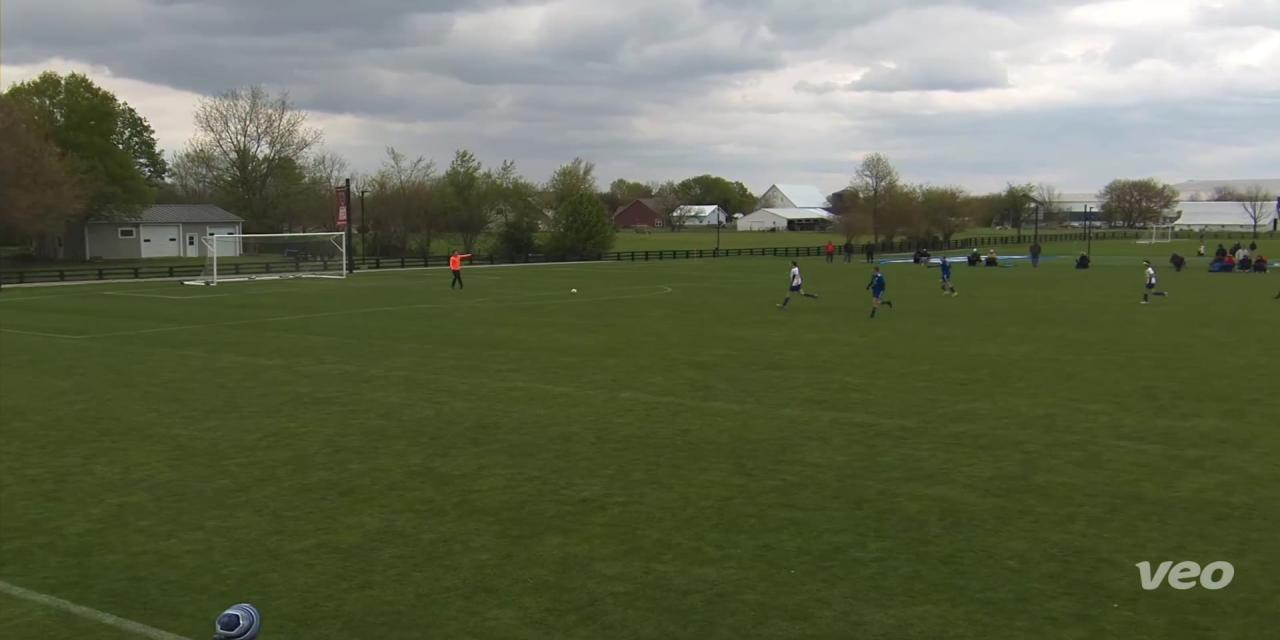goal: (184, 224, 365, 290)
sports ball: (564, 282, 581, 297)
